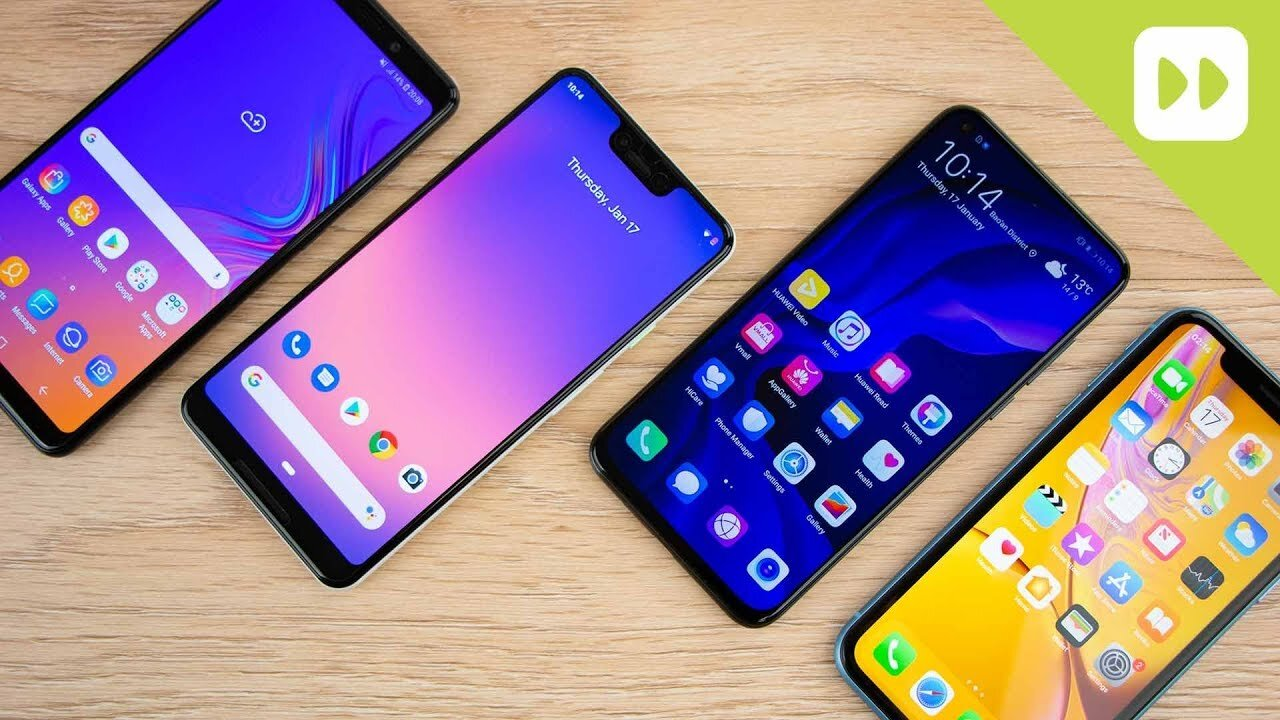phones: (174, 62, 752, 618), (598, 98, 1135, 635), (3, 4, 482, 485), (831, 305, 1280, 720)
